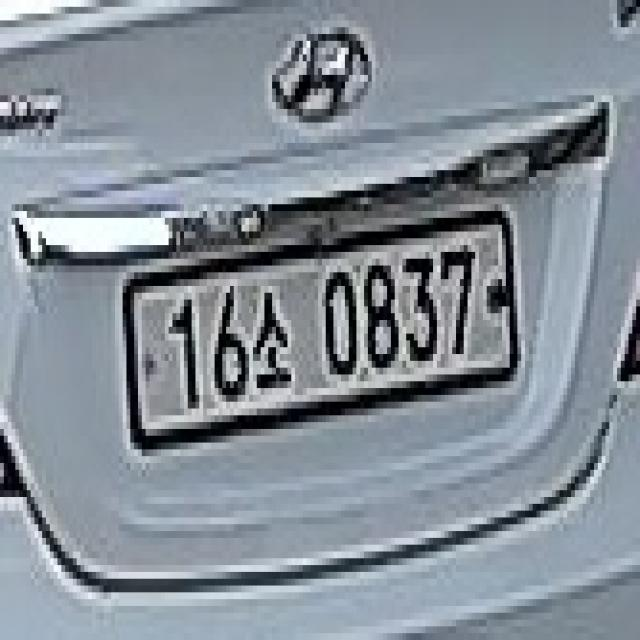0: (322, 266, 360, 388)
1: (165, 279, 207, 422)
3: (402, 245, 441, 368)
6: (211, 279, 253, 409)
7: (441, 245, 479, 361)
8: (360, 252, 402, 374)
license_plate: (115, 197, 525, 470)
so: (253, 279, 291, 395)
